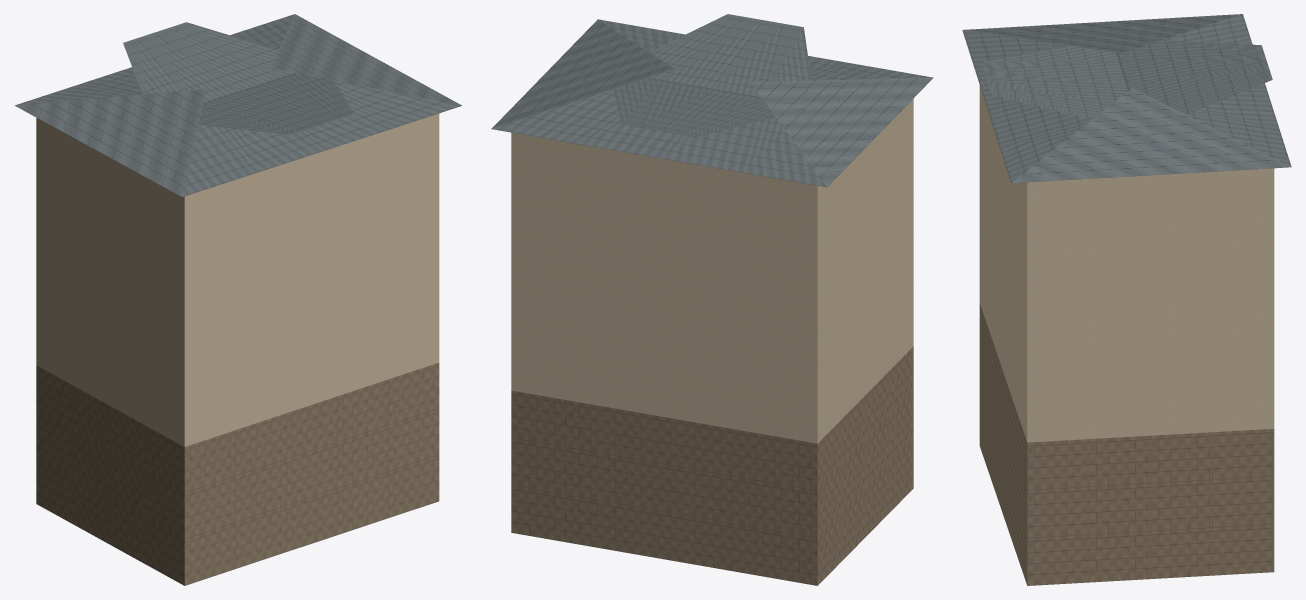
File: bld_c11_19_427.gltf
3 renders of one model, left to right at view 1: azimuth 30°, elevation 25°; view 2: azimuth 150°, elevation 25°; view 3: azimuth 270°, elevation 25°, orthographic. The views are drawn at different scales.
Parts seen in each view (by area): view 1: bld_c11_19_427; view 2: bld_c11_19_427; view 3: bld_c11_19_427.
Boxes of the visible parts, x1,y1,x2,y2 form: bld_c11_19_427: [15, 14, 461, 585]; bld_c11_19_427: [491, 14, 933, 585]; bld_c11_19_427: [962, 14, 1291, 585].
Bounding box in the file's own units: 12.91 × 15.6 × 10.62.
Materials: 3 (3 with a texture image).
